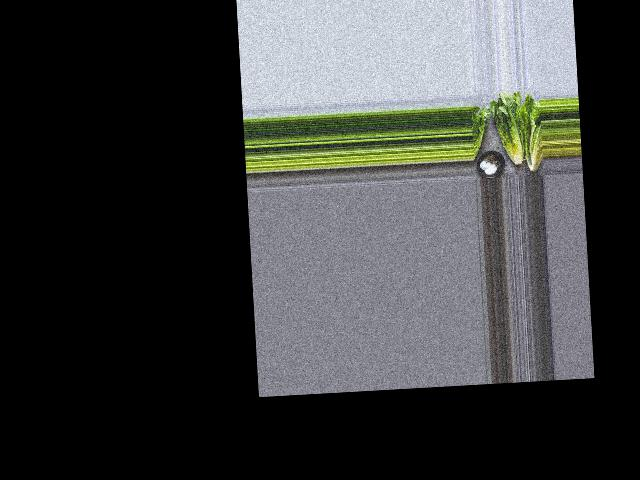lettuce: (519, 99, 543, 176)
